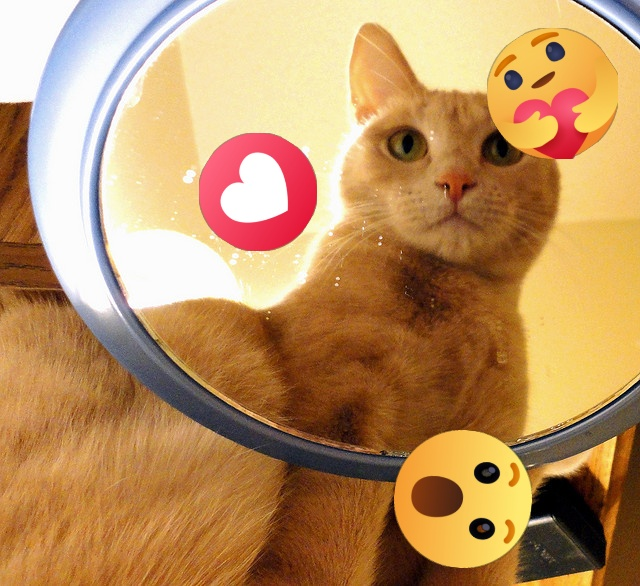care: (487, 28, 618, 159)
love: (199, 133, 317, 251)
wow: (394, 430, 532, 568)
